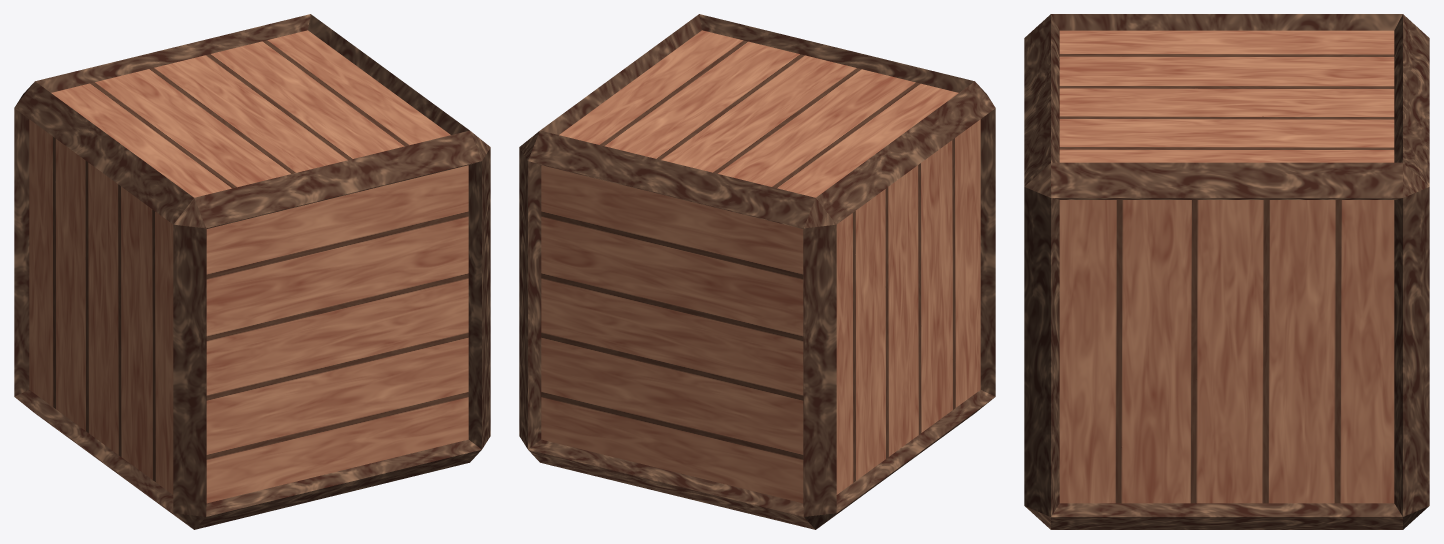
File: Box Asset.fbx
3 renders of one model, left to right at view 1: azimuth 30°, elevation 25°; view 2: azimuth 150°, elevation 25°; view 3: azimuth 270°, elevation 25°, orthographic. The views are drawn at different scales.
Visible parts, largest first — view 1: Cube.001; view 2: Cube.001; view 3: Cube.001.
Part boxes in pixels (x1,y1,x2,y2): Cube.001: [14, 14, 490, 529]; Cube.001: [519, 14, 995, 529]; Cube.001: [1024, 14, 1429, 529].
Size of the model in its own units: 158 by 158 by 158.
